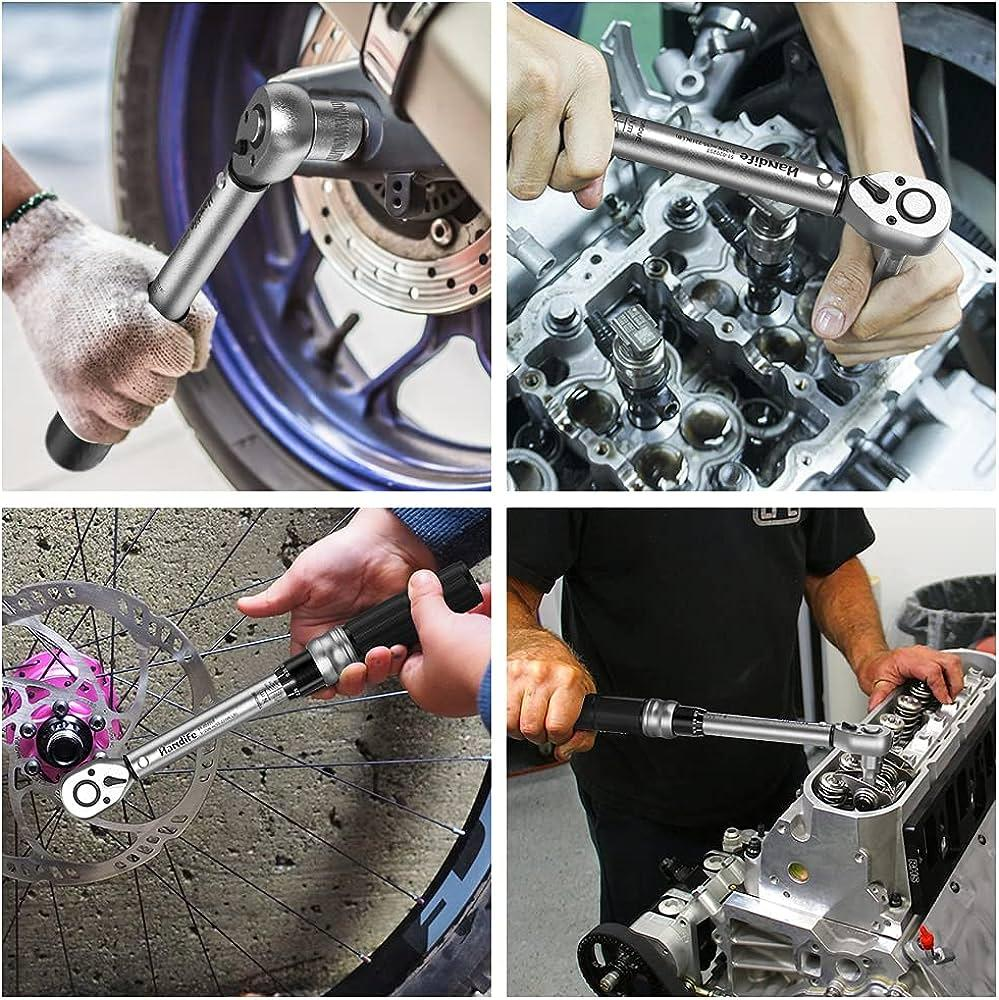Tool: (218, 68, 338, 193), (844, 173, 951, 248), (54, 754, 139, 819), (834, 715, 892, 765)
